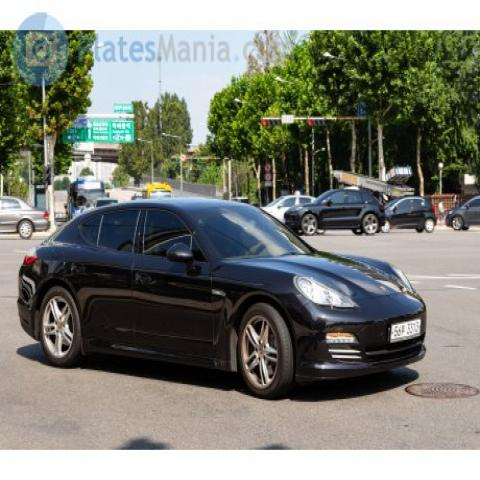LP: (388, 313, 428, 348)
